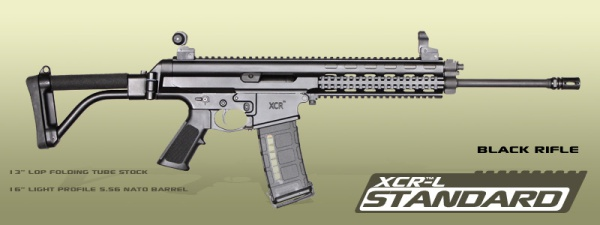ak47: (29, 32, 580, 199)
